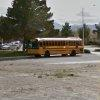Bus: (25, 31, 86, 54)
